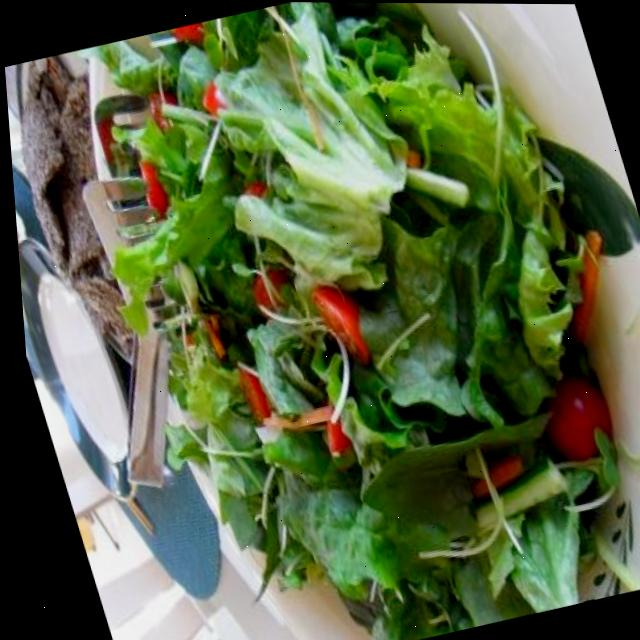蔬菜料理: (29, 0, 640, 640)
